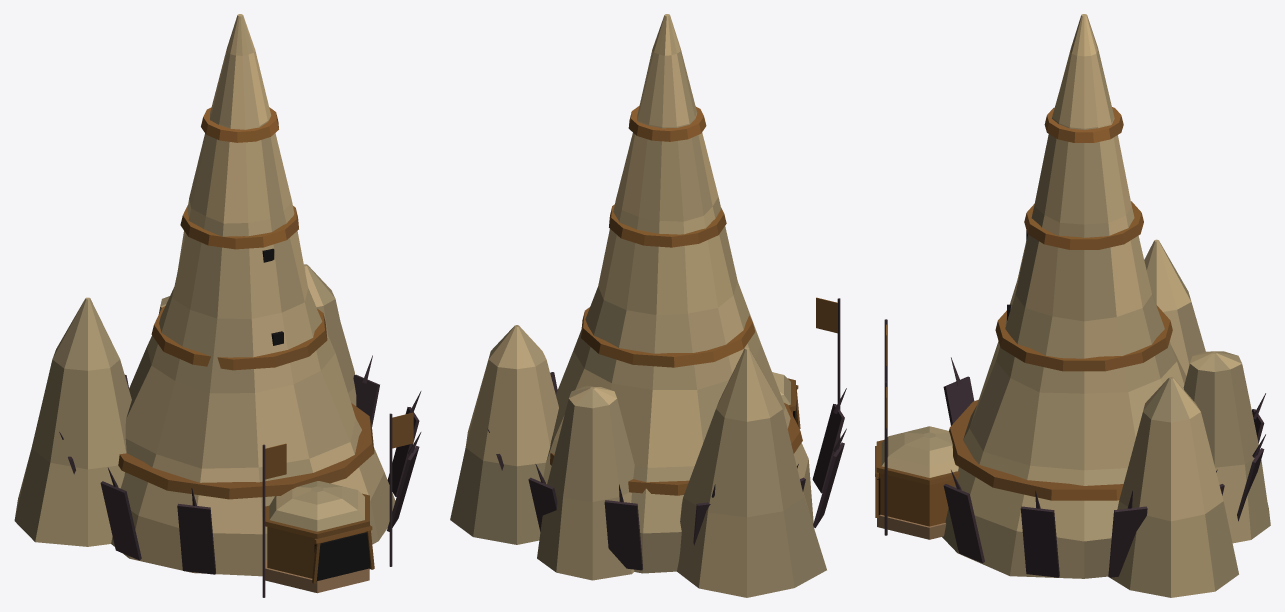
The model's file is hive_seat.glb.
The picture shows the model from 3 angles, left to right: view 1: azimuth 30°, elevation 25°; view 2: azimuth 150°, elevation 25°; view 3: azimuth 270°, elevation 25°; orthographic projection.
Visible parts, largest first — view 1: hive_seat; view 2: hive_seat; view 3: hive_seat.
Part boxes in pixels (x1=…): hive_seat: x1=14, y1=14, x2=421, y2=597; hive_seat: x1=450, y1=14, x2=846, y2=597; hive_seat: x1=875, y1=14, x2=1270, y2=597.
Size of the model in its own units: 16.81 by 22.9 by 16.39.
1 material, 1 textured.
